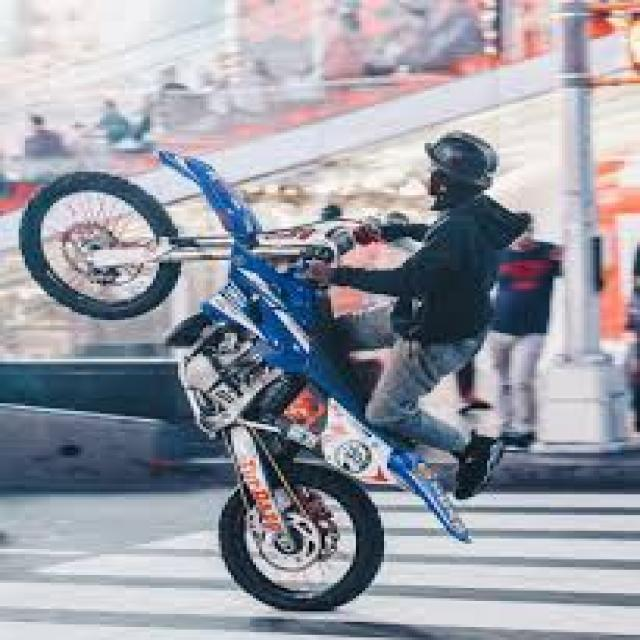Wheeling: (51, 124, 528, 623)
